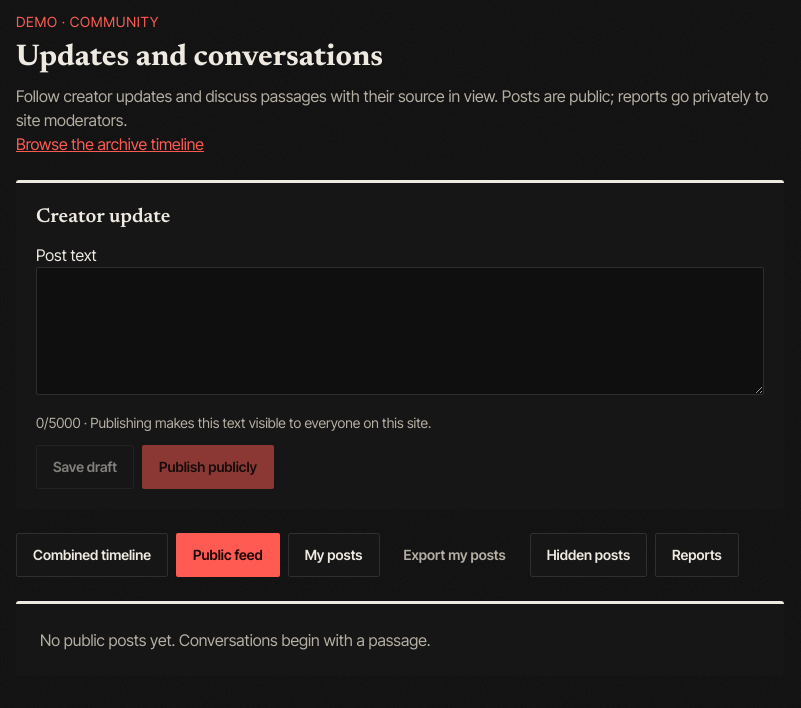
Test: community publishing › keeps drafts private until explicitly published
Expected: the text "No public posts yet. Conversations begin with a passage." is shown, [16,601,784,676]
Type "Draft news" into the text box labelled "Post text" at (400, 331), box [36,267,764,395]
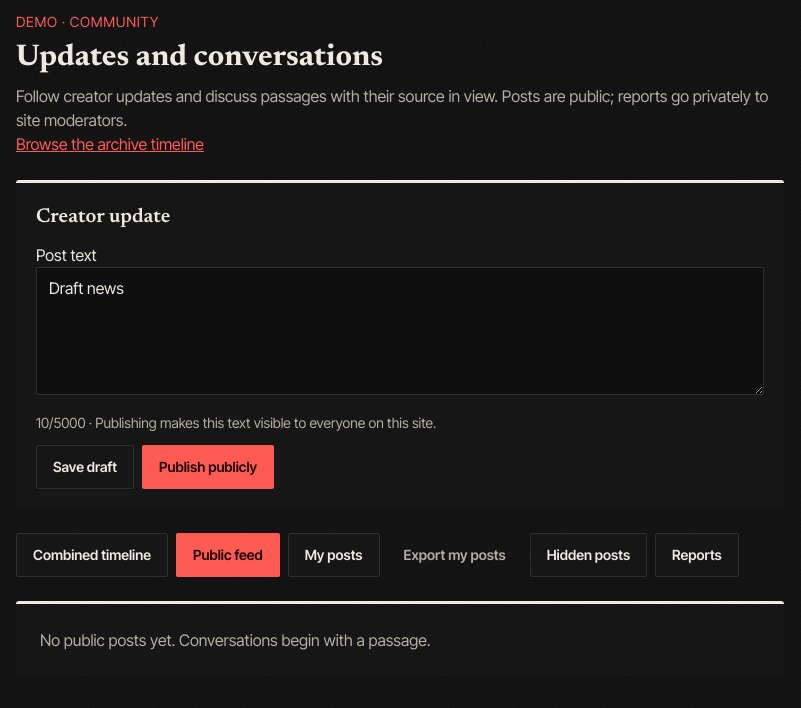
Click the button "Save draft" at (85, 467), box [36,445,134,489]
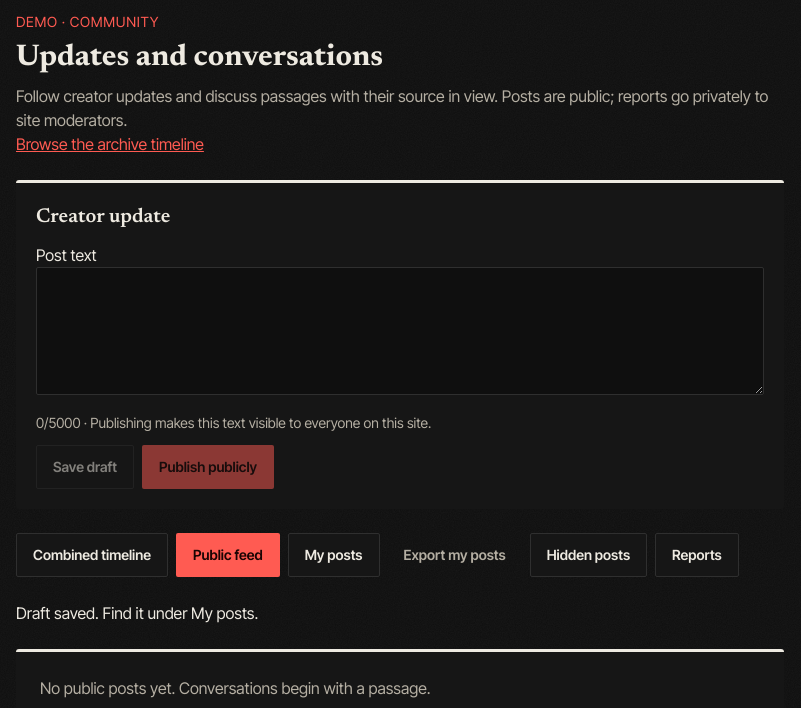
Expected: the text "Draft saved. Find it under My posts." is shown, [16,603,258,623]
